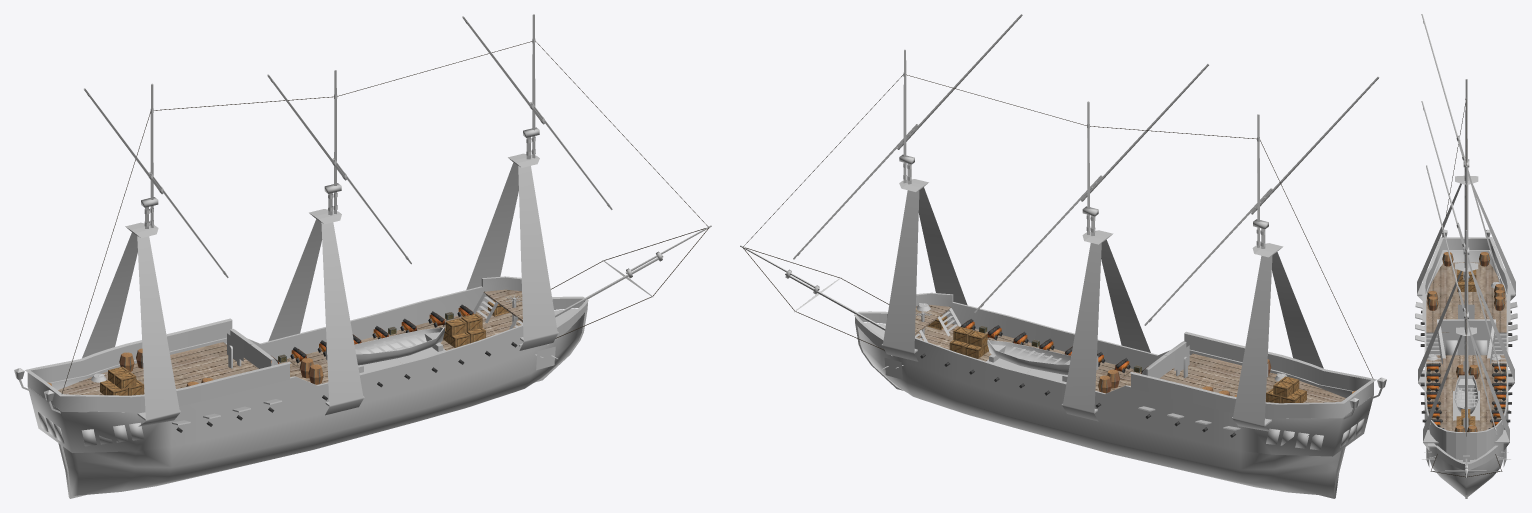
File: GalleyLD2.FBX
3 views of the same model, side by side, from view 1: azimuth 30°, elevation 25°; view 2: azimuth 150°, elevation 25°; view 3: azimuth 270°, elevation 25° (orthographic). The views are drawn at different scales.
Parts seen in each view (by area): view 1: GalleyCorpsLD2_001, VantsLow_017, GalleyBoardsLow_010, GalleyMastsLD2_004, DeckLD2_001, BoatLD2_001, GalleyBoardsLD2_001, Rope1LD0_028, ShipElementsLOW_016, WindowLD1_002; view 2: GalleyCorpsLD2_001, VantsLow_017, GalleyBoardsLow_010, GalleyMastsLD2_004, DeckLD2_001, BoatLD2_001, GalleyBoardsLD2_001, Rope1LD0_028, ShipElementsLOW_016, WindowLD1_002; view 3: GalleyCorpsLD2_001, DeckLD2_001, GalleyMastsLD2_004, VantsLow_017, GalleyBoardsLow_010, GalleyBoardsLD2_001, BoatLD2_001, ShipElementsLOW_016, Rope1LD0_028, GalleyRopesLD0_010, DoorLD1_031, DoorLD1_030 (+3 smaller).
Part boxes in pixels (box(x1,y1,x2,y2)): GalleyCorpsLD2_001: box(28, 276, 587, 498); VantsLow_017: box(82, 162, 557, 426); GalleyBoardsLow_010: box(27, 298, 587, 412); GalleyMastsLD2_004: box(83, 14, 711, 420); DeckLD2_001: box(58, 289, 522, 395); BoatLD2_001: box(354, 327, 444, 373); GalleyBoardsLD2_001: box(25, 292, 588, 397); Rope1LD0_028: box(62, 41, 708, 393); ShipElementsLOW_016: box(227, 332, 555, 373); WindowLD1_002: box(38, 412, 144, 446); GalleyCorpsLD2_001: box(855, 292, 1373, 498); VantsLow_017: box(882, 187, 1323, 431); GalleyBoardsLow_010: box(855, 313, 1373, 418); GalleyMastsLD2_004: box(740, 14, 1379, 425); DeckLD2_001: box(915, 305, 1345, 402); BoatLD2_001: box(987, 340, 1070, 381); GalleyBoardsLD2_001: box(854, 307, 1376, 404); Rope1LD0_028: box(743, 74, 1373, 378); ShipElementsLOW_016: box(884, 344, 1189, 383); WindowLD1_002: box(1266, 418, 1364, 450); GalleyCorpsLD2_001: box(1415, 250, 1517, 498); DeckLD2_001: box(1426, 262, 1506, 431); GalleyMastsLD2_004: box(1417, 14, 1515, 477); VantsLow_017: box(1417, 183, 1515, 450); GalleyBoardsLow_010: box(1425, 238, 1507, 470); GalleyBoardsLD2_001: box(1422, 237, 1510, 463); BoatLD2_001: box(1454, 375, 1478, 416); ShipElementsLOW_016: box(1426, 304, 1506, 466); Rope1LD0_028: box(1431, 99, 1501, 477); GalleyRopesLD0_010: box(1423, 20, 1499, 430); DoorLD1_031: box(1445, 340, 1457, 355); DoorLD1_030: box(1475, 340, 1487, 355).
Size of the model in its own units: 706 by 432 by 127.
